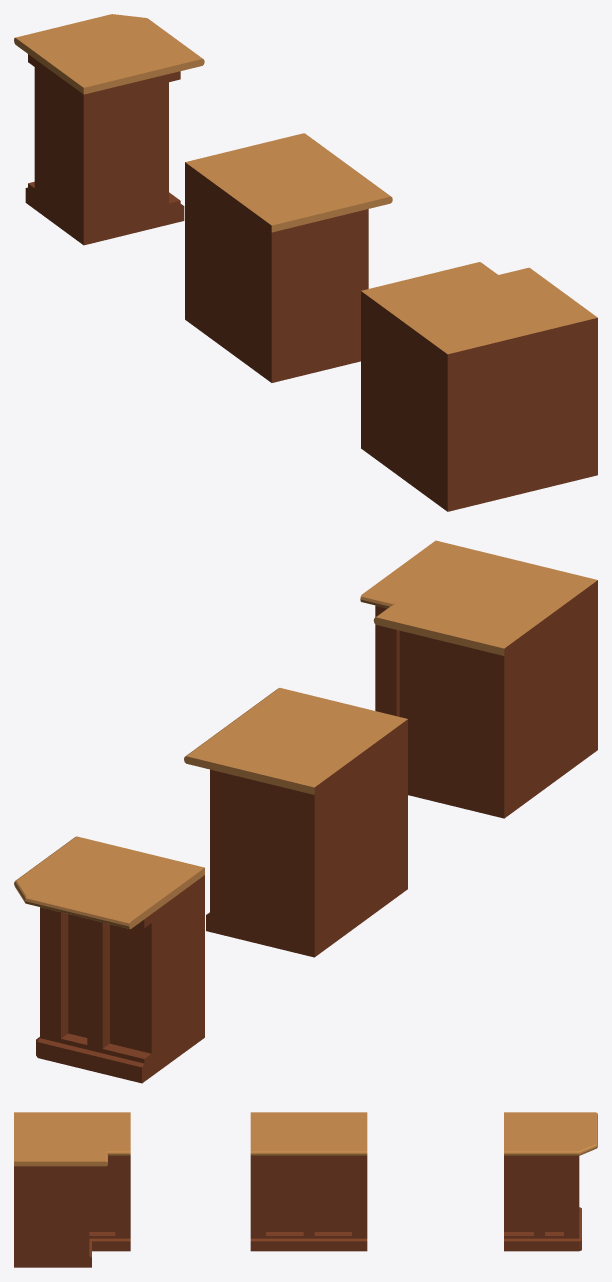
The model's file is M_SetMesadas_NoTextures.fbx.
3 renders of one model, top to bottom at view 1: azimuth 30°, elevation 25°; view 2: azimuth 150°, elevation 25°; view 3: azimuth 270°, elevation 25°, orthographic. The views are drawn at different scales.
Parts seen in each view (by area): view 1: m_Mesada_Esquinera_Interior, m_Mesada_Intermedia, m_Mesada_Esquinera_Exterior; view 2: m_Mesada_Esquinera_Interior, m_Mesada_Intermedia, m_Mesada_Esquinera_Exterior; view 3: m_Mesada_Esquinera_Interior, m_Mesada_Intermedia, m_Mesada_Esquinera_Exterior.
Boxes of the visible parts, box(x1,y1,x2,y2) form: m_Mesada_Esquinera_Interior: box(361, 262, 597, 511); m_Mesada_Intermedia: box(185, 133, 392, 382); m_Mesada_Esquinera_Exterior: box(14, 14, 204, 245); m_Mesada_Esquinera_Interior: box(360, 540, 597, 818); m_Mesada_Intermedia: box(184, 688, 407, 957); m_Mesada_Esquinera_Exterior: box(14, 836, 204, 1083); m_Mesada_Esquinera_Interior: box(14, 1112, 130, 1267); m_Mesada_Intermedia: box(250, 1112, 367, 1251); m_Mesada_Esquinera_Exterior: box(504, 1112, 597, 1251).
Size of the model in its own units: 209 by 209 by 1045.
